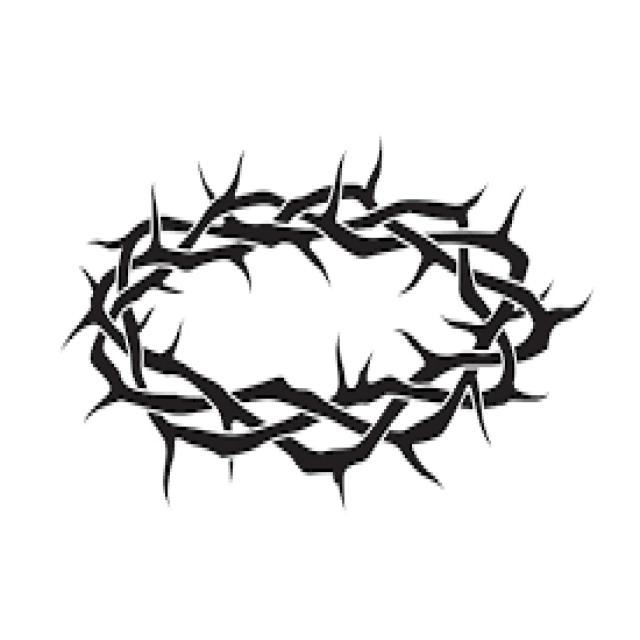crown: (61, 129, 588, 498)
